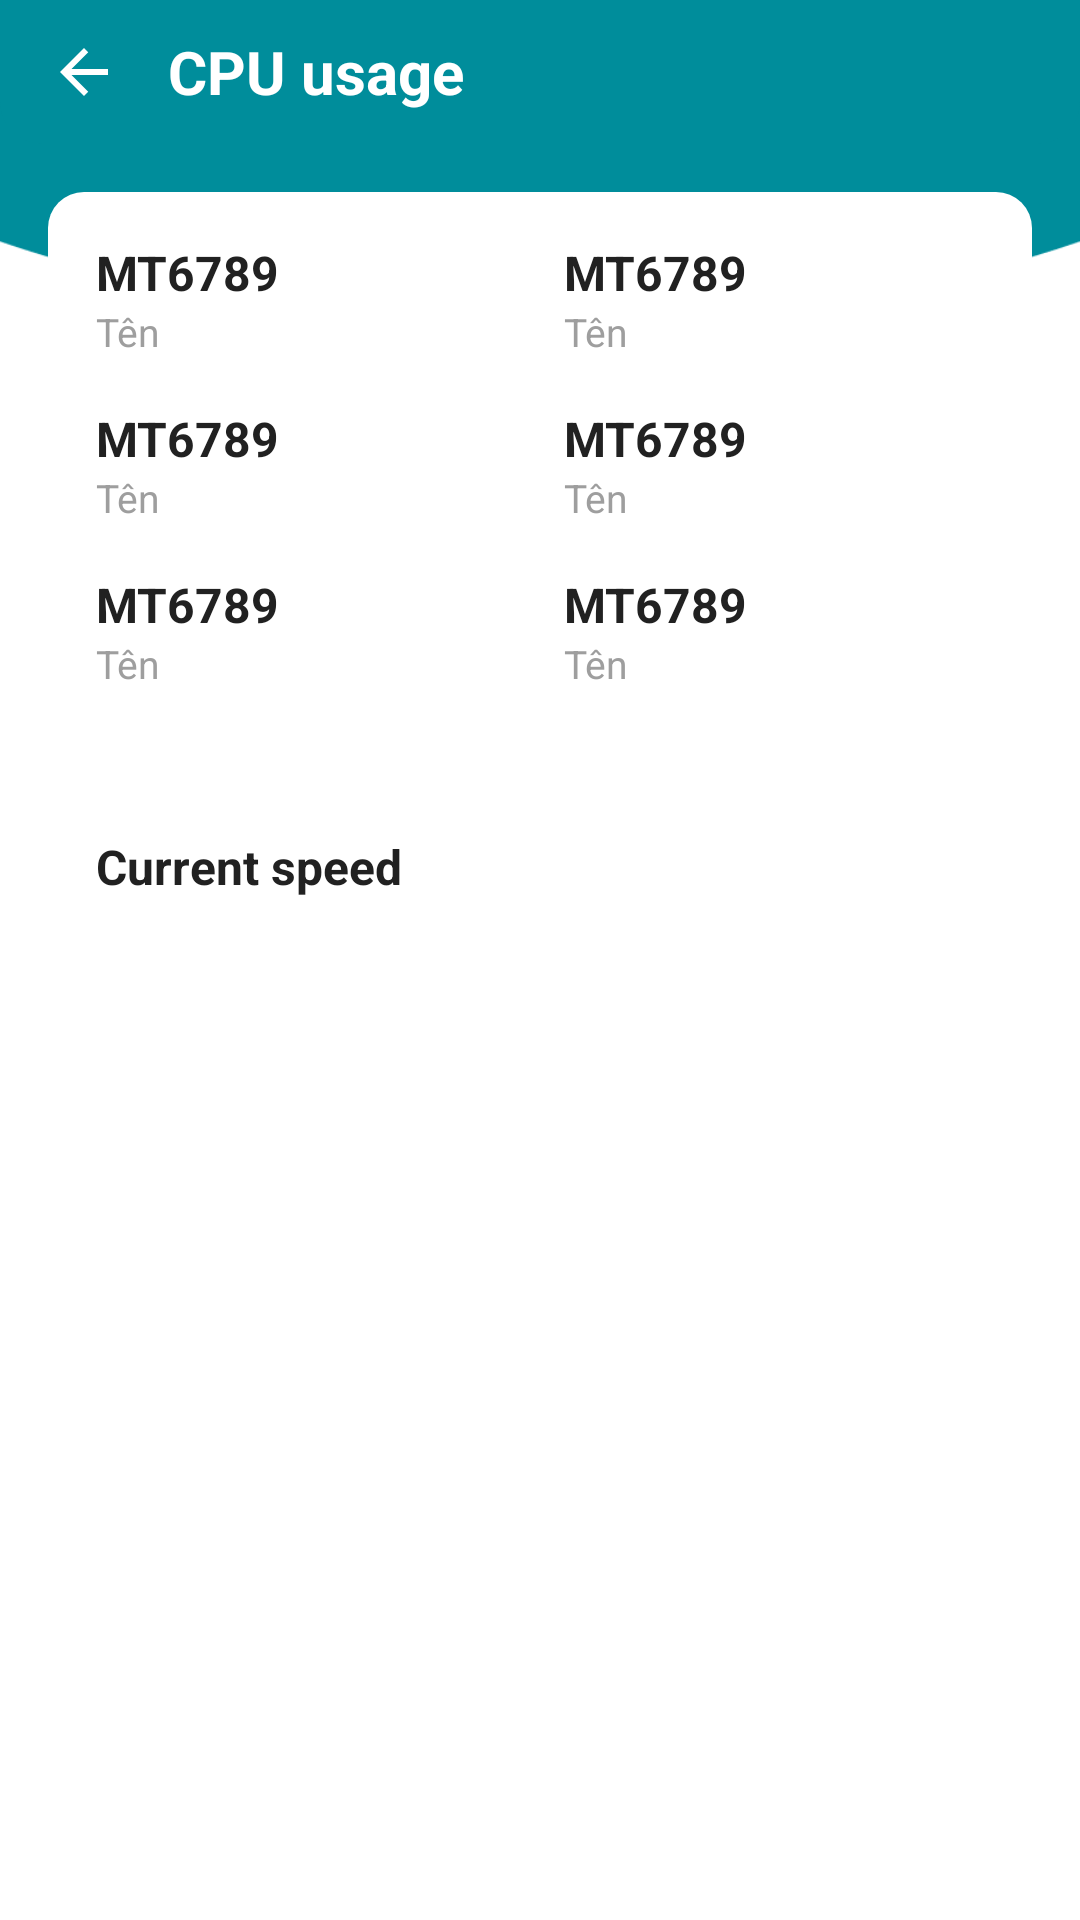

Icon click points for this 1080px×1920px phone screenshot, format [x,y]:
Back: [84,72]
